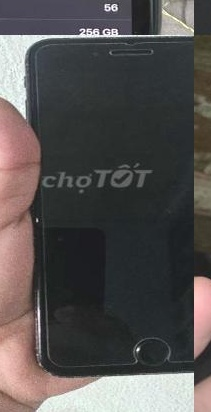scratch: (40, 365, 194, 376), (43, 35, 194, 46), (29, 290, 47, 369), (18, 41, 34, 119), (29, 213, 40, 225), (130, 342, 143, 352), (161, 351, 173, 359)
